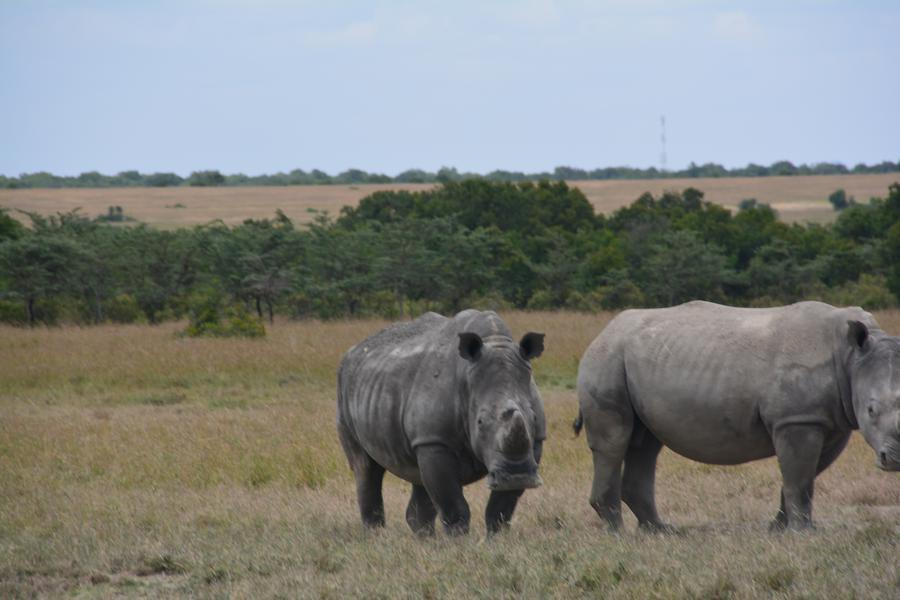rhino: (567, 291, 893, 514), (341, 299, 525, 532)
